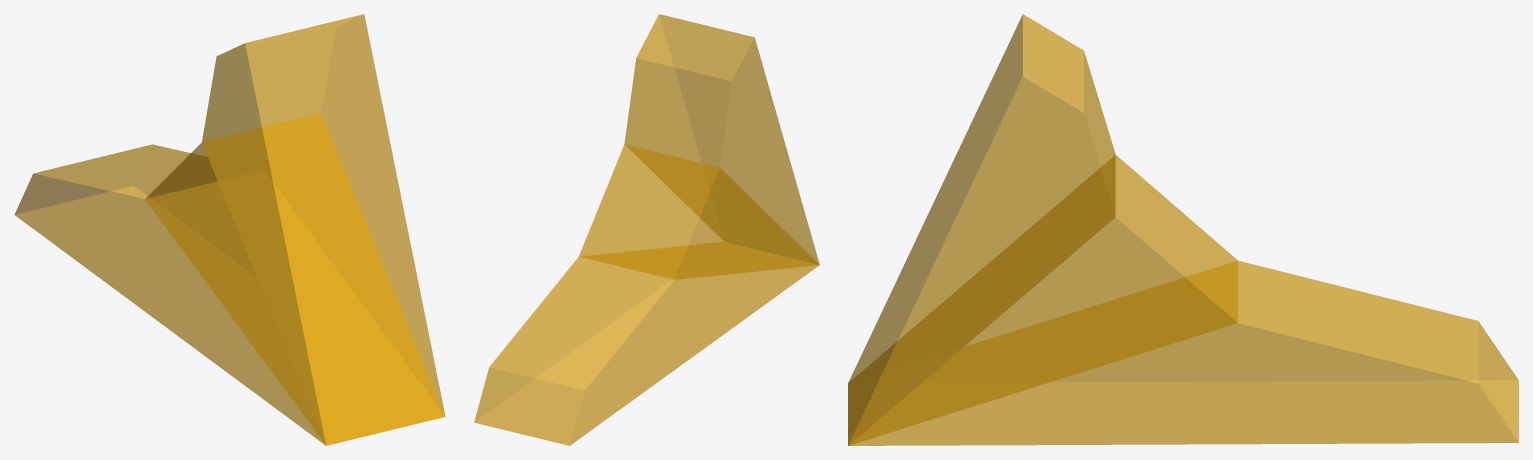
File: SM_Veh_Ship_S_Ram_01_Collision.fbx
The picture shows the model from 3 angles, left to right: view 1: azimuth 30°, elevation 25°; view 2: azimuth 150°, elevation 25°; view 3: azimuth 270°, elevation 25°; orthographic projection. The views are drawn at different scales.
Visible parts, largest first — view 1: SM_Veh_Ship_S_Ram_01_Collision; view 2: SM_Veh_Ship_S_Ram_01_Collision; view 3: SM_Veh_Ship_S_Ram_01_Collision.
Part boxes in pixels (<box>): SM_Veh_Ship_S_Ram_01_Collision: <box>14,14,445,445</box>; SM_Veh_Ship_S_Ram_01_Collision: <box>474,14,819,445</box>; SM_Veh_Ship_S_Ram_01_Collision: <box>848,14,1518,445</box>.
Size of the model in its own units: 114 by 314 by 517.
